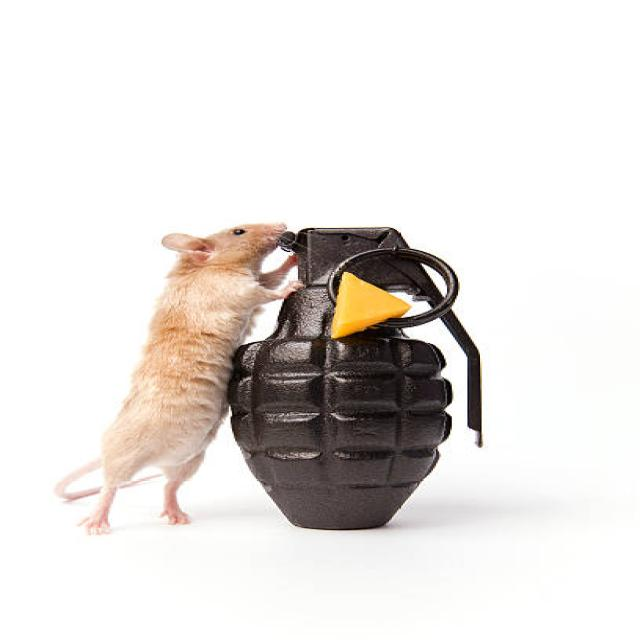grenade: (215, 222, 499, 536)
